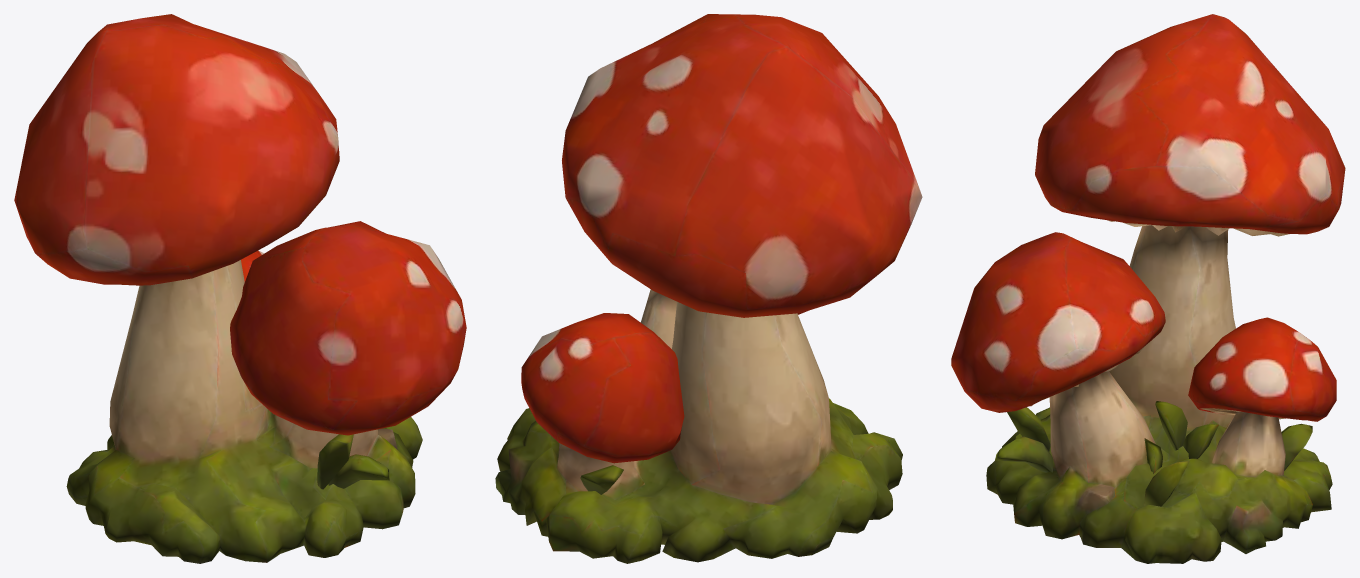
The model's file is champignons.glb.
3 views of the same model, side by side, from view 1: azimuth 30°, elevation 25°; view 2: azimuth 150°, elevation 25°; view 3: azimuth 270°, elevation 25° (orthographic). The views are drawn at different scales.
Visible parts, largest first — view 1: geometry_0; view 2: geometry_0; view 3: geometry_0.
Boxes of the visible parts, left/top/right/bottom form: geometry_0: left=14, top=14, right=466, bottom=563; geometry_0: left=495, top=14, right=922, bottom=563; geometry_0: left=951, top=14, right=1345, bottom=563.
Bounding box in the file's own units: 0.7842 × 0.9526 × 0.7934.
1 material, 1 textured.
